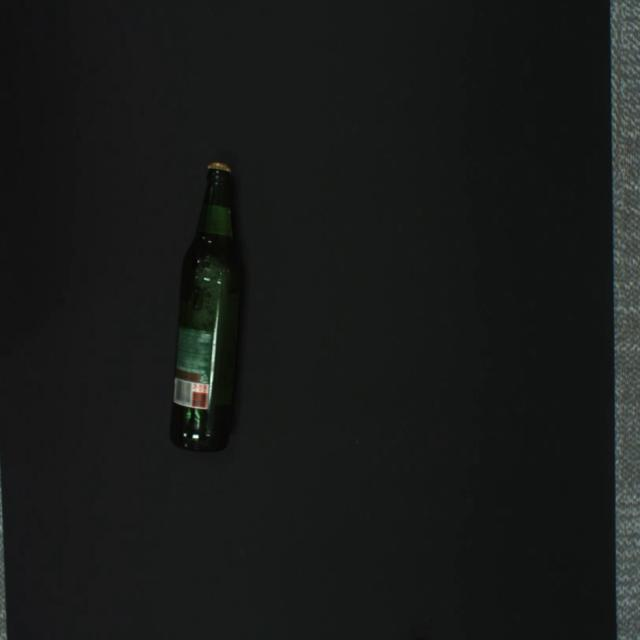beer-bottle: (169, 162, 241, 452)
